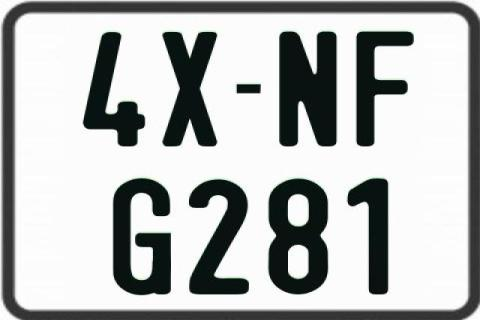0: (83, 32, 147, 147), (267, 179, 328, 297), (189, 177, 250, 292), (345, 178, 391, 298)
F: (353, 29, 412, 148)
G: (111, 179, 175, 297)
N: (276, 29, 339, 145)
X: (160, 29, 220, 149)
